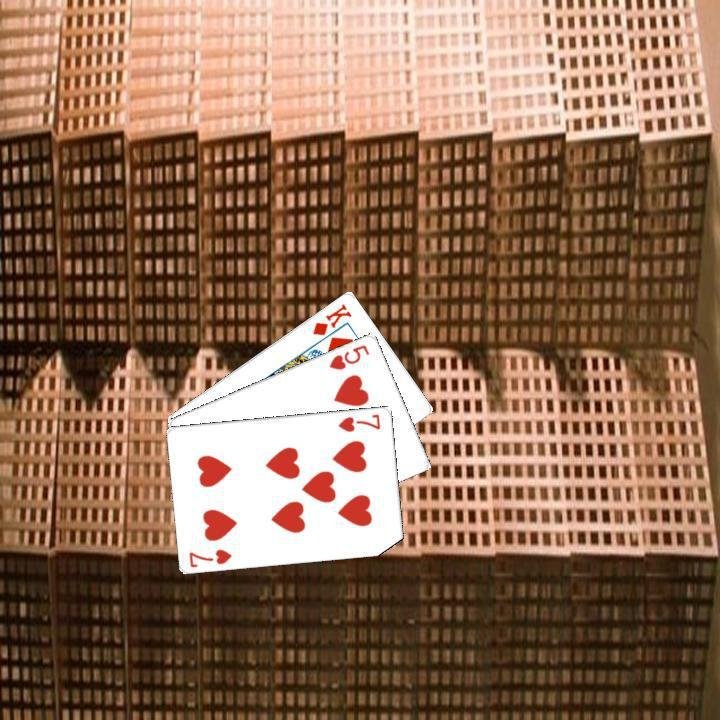5: (325, 340, 371, 372)
7: (185, 544, 234, 569), (334, 409, 383, 433)
K: (308, 299, 354, 337)
